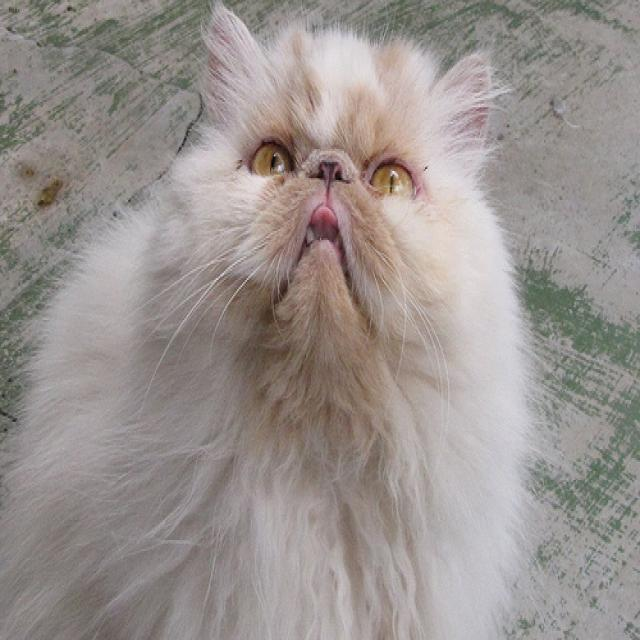Persian: (201, 4, 490, 331)
